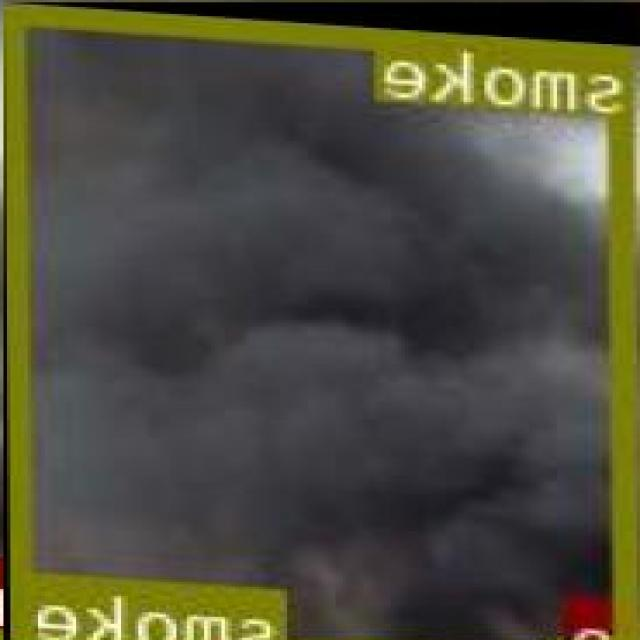smoke: (3, 2, 640, 640)
